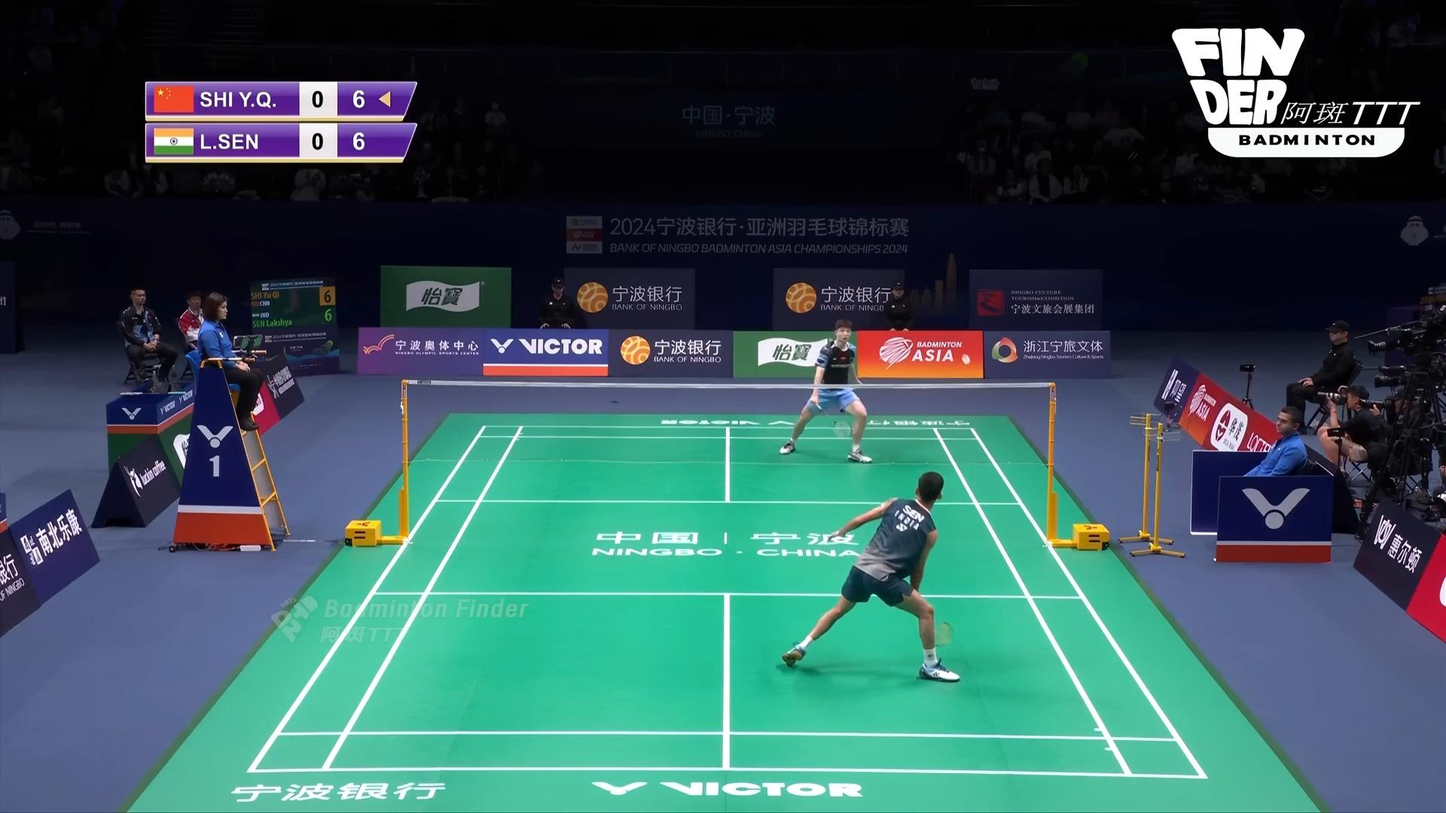player: (781, 472, 959, 683), (779, 318, 872, 463)
shuttlecock: (962, 353, 970, 365)
